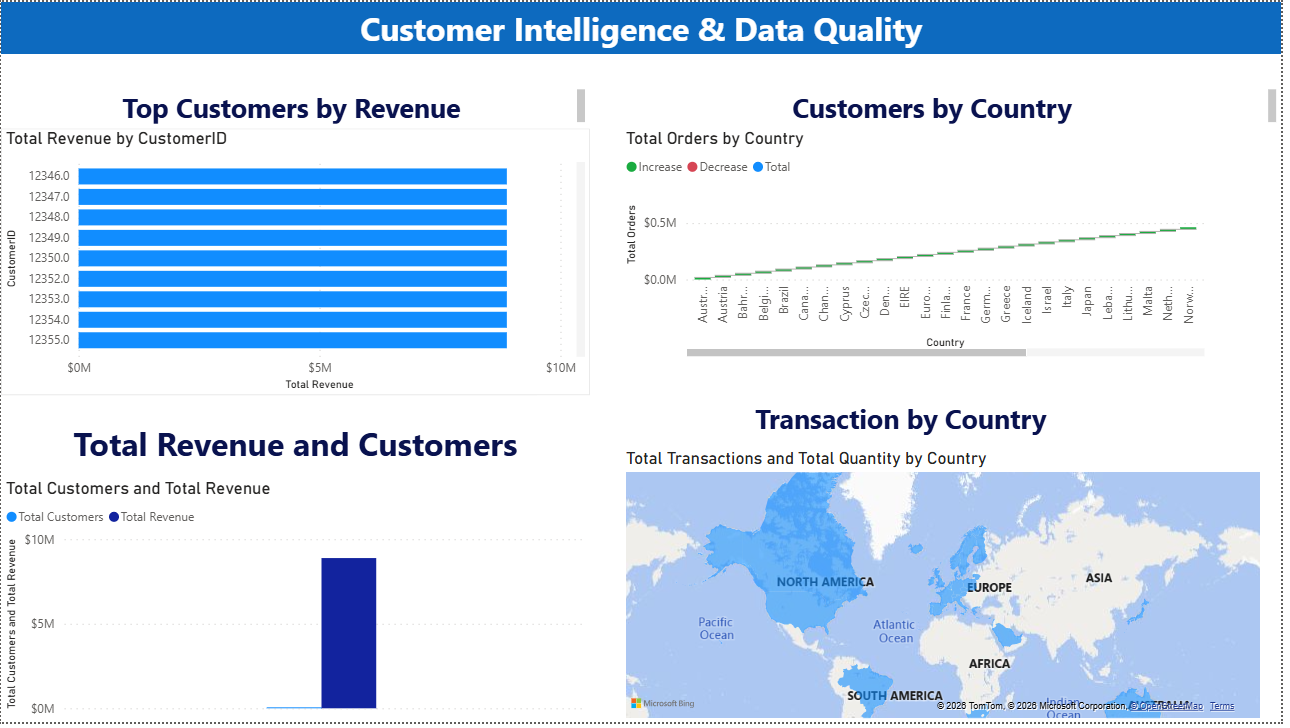

The dashboard page shown, as its layout file describes it:
{"tool":"powerbi","page":{"name":"Customer Intelligence & Data Quality","canvas":[1280,720],"ordinal":2},"visuals":[{"type":"textbox","box":[0,0,1280.3,52.1],"z":0},{"type":"clusteredBarChart","fields":{"Category":["DimCustomer.CustomerID"],"Y":["DQ_InitialQuality.Total Revenue"]},"box":[0,126.2,588.7,267.6],"z":1},{"type":"textbox","box":[0,82.3,588.7,43.9],"z":2},{"type":"textbox","box":[588.7,82.3,691.6,43.9],"z":3},{"type":"waterfallChart","fields":{"Category":["DimCountry.Country"],"Y":["DQ_InitialQuality.Total Orders"]},"box":[620.2,126.2,588.7,233.3],"z":4},{"type":"lineClusteredColumnComboChart","fields":{"Y":["DQ_InitialQuality.Total Customers","DQ_InitialQuality.Total Revenue"]},"box":[0,476.2,588.7,244.3],"z":5},{"type":"textbox","box":[0,414.4,588.7,61.7],"z":6},{"type":"filledMap","fields":{"Category":["DimCountry.Country"]},"box":[620.2,446,643.6,274.4],"z":7},{"type":"textbox","box":[536.5,393.8,727.3,52.1],"z":8}]}

Visuals, with their boxes in screenshot pixels (x1, y1, x2, y2), scaled from the page's 1280x720 canvas onto the 1290x728 screenshot:
textbox: region(0, 0, 1289, 53)
clusteredBarChart - DimCustomer.CustomerID x DQ_InitialQuality.Total Revenue: region(0, 128, 593, 398)
textbox: region(0, 83, 593, 128)
textbox: region(593, 83, 1289, 128)
waterfallChart - DimCountry.Country x DQ_InitialQuality.Total Orders: region(625, 128, 1218, 363)
lineClusteredColumnComboChart - DQ_InitialQuality.Total Customers x DQ_InitialQuality.Total Revenue: region(0, 481, 593, 727)
textbox: region(0, 419, 593, 481)
filledMap - DimCountry.Country: region(625, 451, 1274, 727)
textbox: region(541, 398, 1274, 451)
